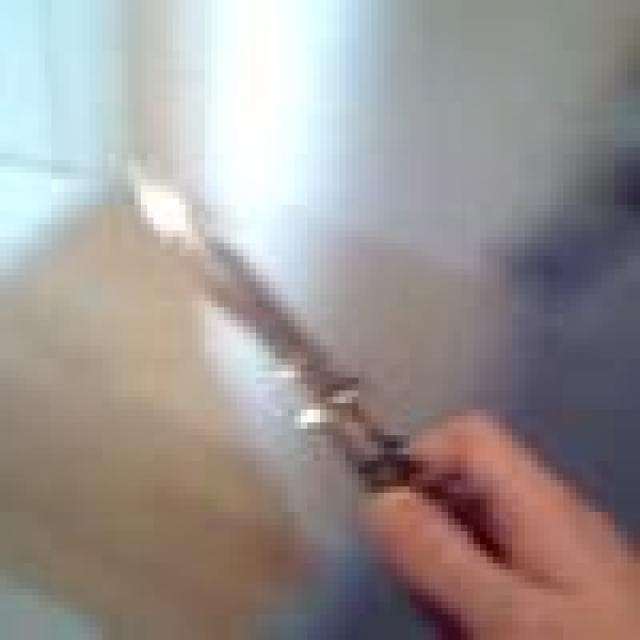faca: (102, 141, 640, 640)
